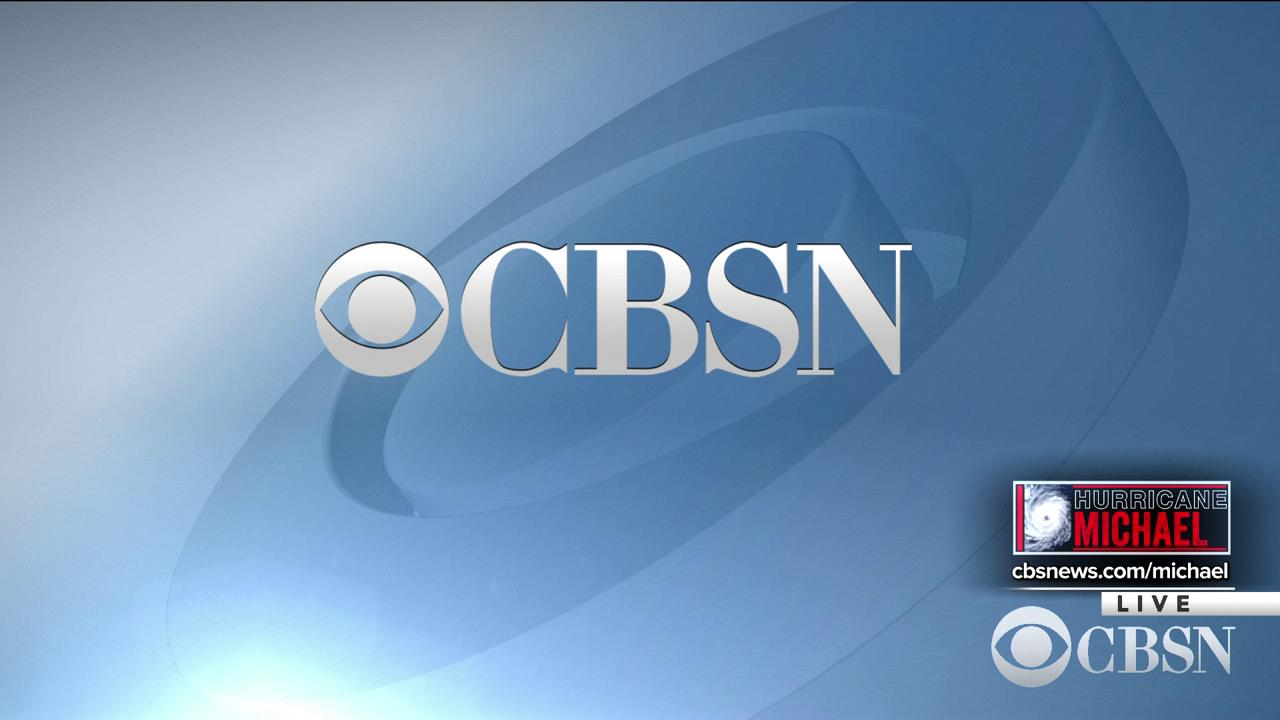CBSN: (457, 241, 913, 381), (1075, 625, 1240, 675)
HURRICANE: (1072, 487, 1226, 512)
LIVE: (1112, 592, 1195, 616)
MICHAEL: (1070, 511, 1210, 548)
cbsnews.com/michael: (1008, 561, 1229, 584)
